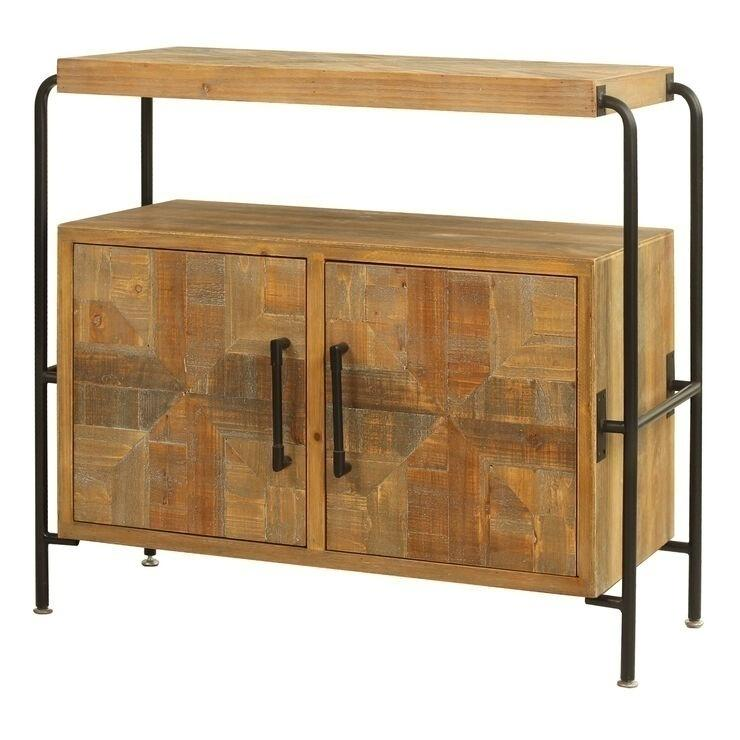cabinet_door: (324, 263, 586, 563), (62, 253, 303, 538), (640, 238, 675, 403)
handle: (327, 341, 351, 478), (266, 339, 290, 472), (601, 416, 626, 445)
